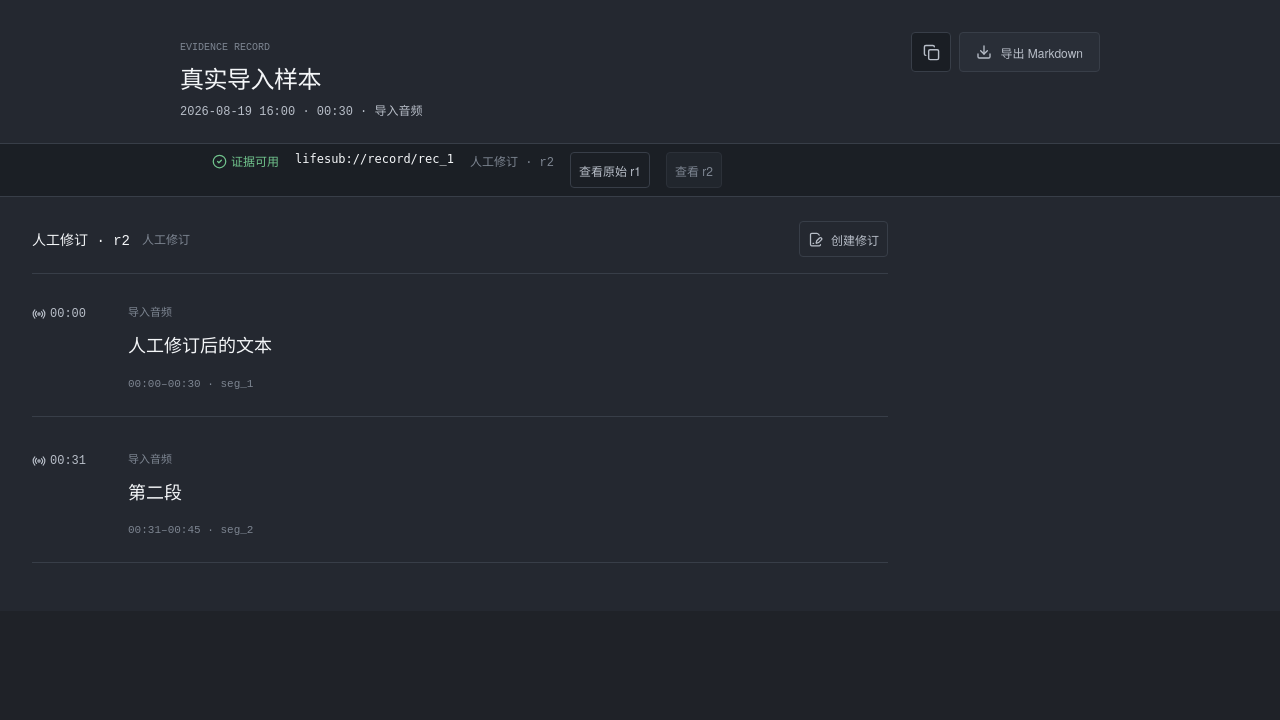
TranscriptView › resumes paused audio from the persistent playback controls and clears on revision change
Click the button named "播放 00:00". click: [70, 314]
box: [32, 298, 108, 330]
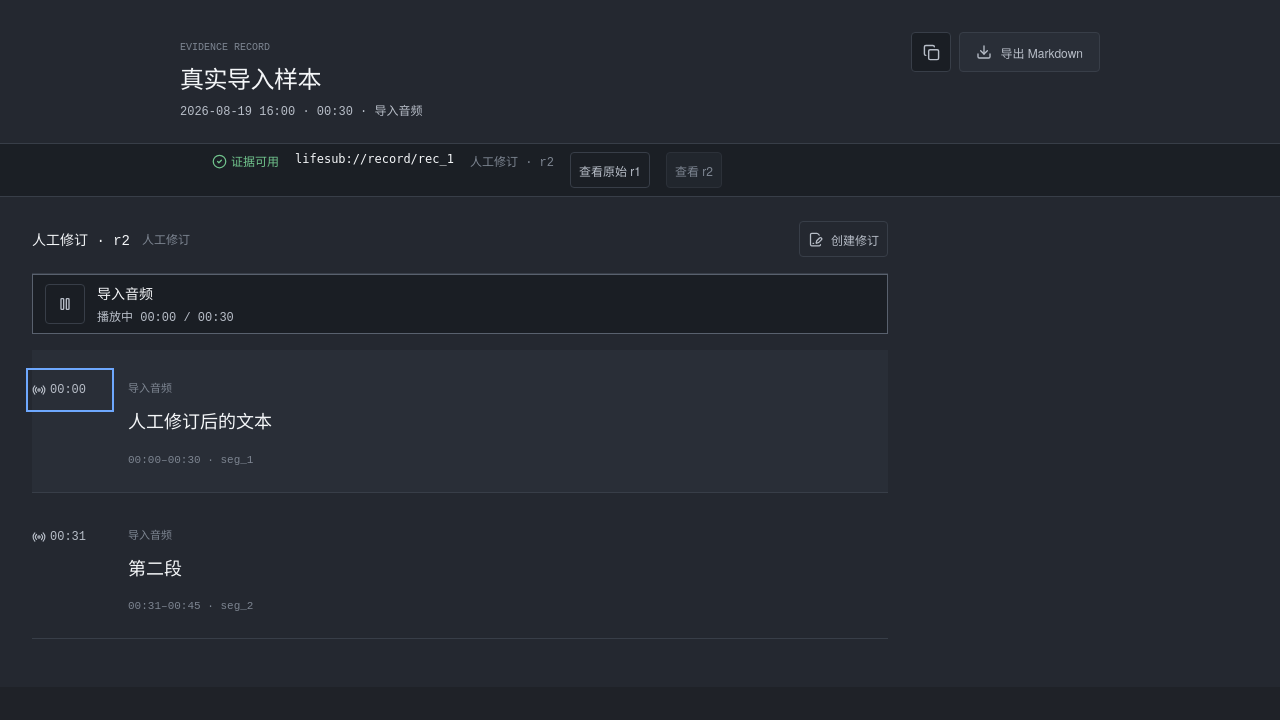
Result: the element named "音频播放控制" is shown at [32, 274, 888, 334]
Click the button named "暂停音频". click: [65, 304]
box: [45, 284, 85, 324]
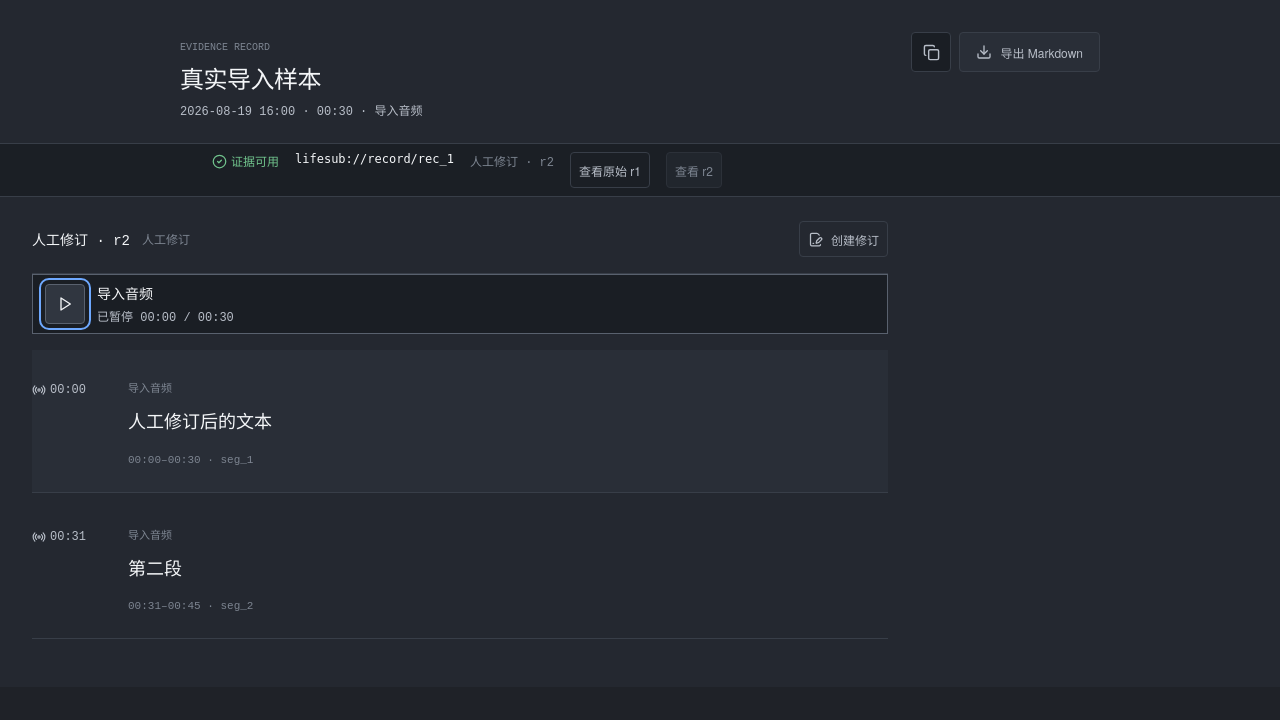
Click the button named "继续播放音频". click: [65, 304]
box: [45, 284, 85, 324]
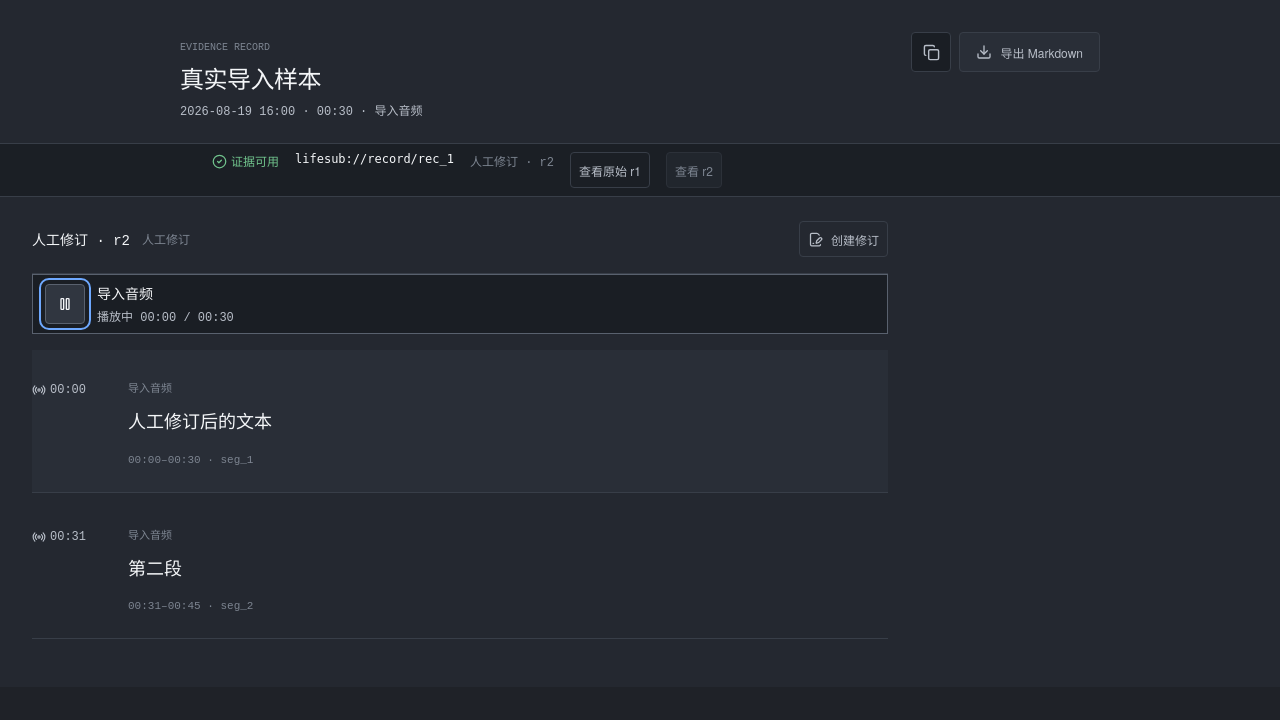
Click the button "查看原始 r1". click: [610, 170]
box: [570, 152, 650, 188]
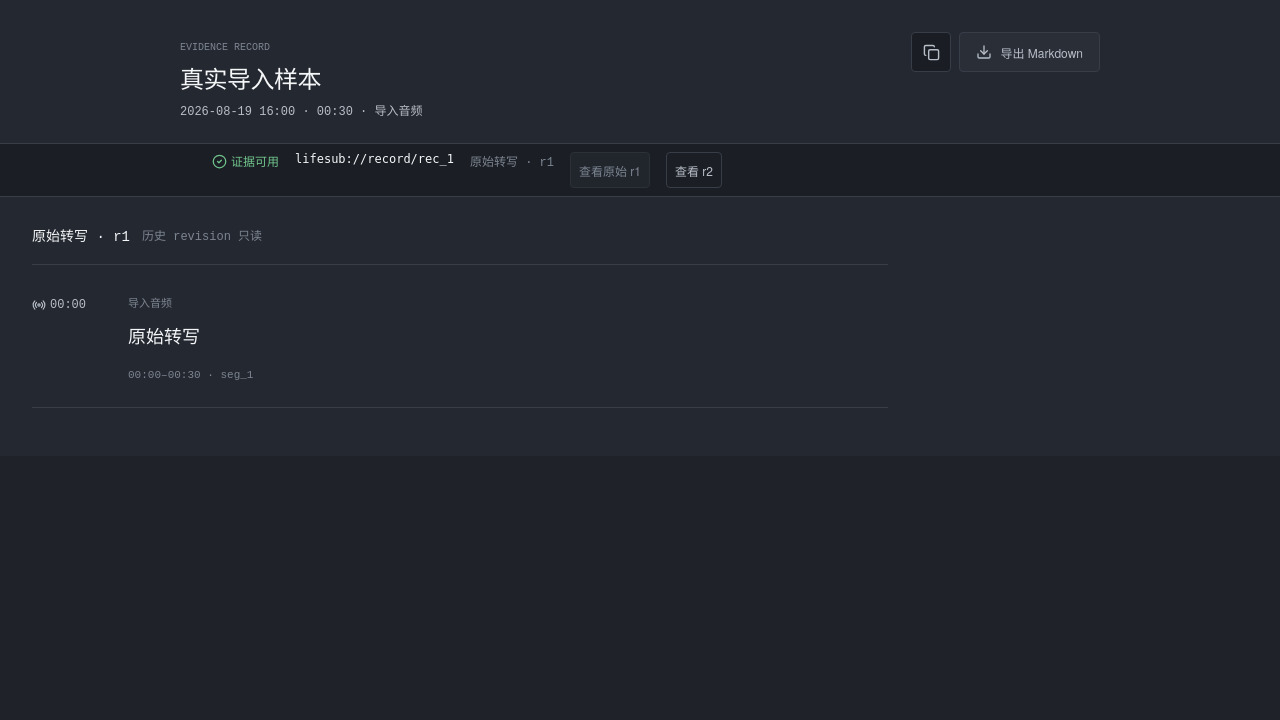
Result: the element "音频播放控制" is gone
